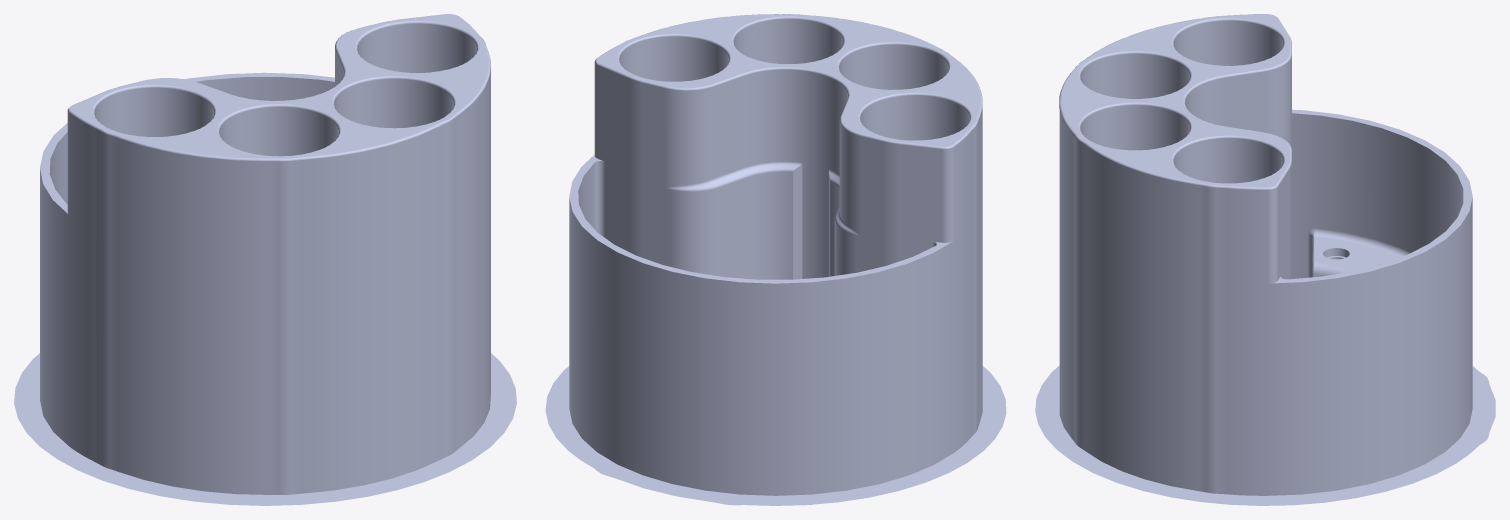
The model's file is ur3e_scaled_50.obj.
3 renders of one model, left to right at view 1: azimuth 30°, elevation 25°; view 2: azimuth 150°, elevation 25°; view 3: azimuth 270°, elevation 25°, orthographic. The views are drawn at different scales.
Bounding box in the file's own units: 0.0214 × 0.0171 × 0.0214.
